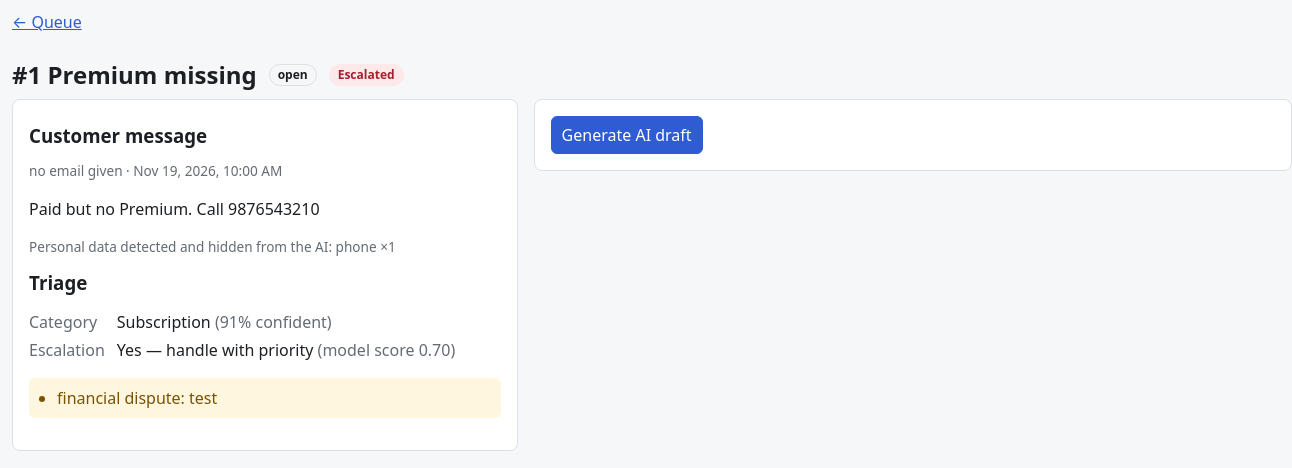
Test case: TicketPage › shows a readable error when generation fails
Click the button "Generate AI draft".
click(627, 135)  # box [551, 116, 703, 154]
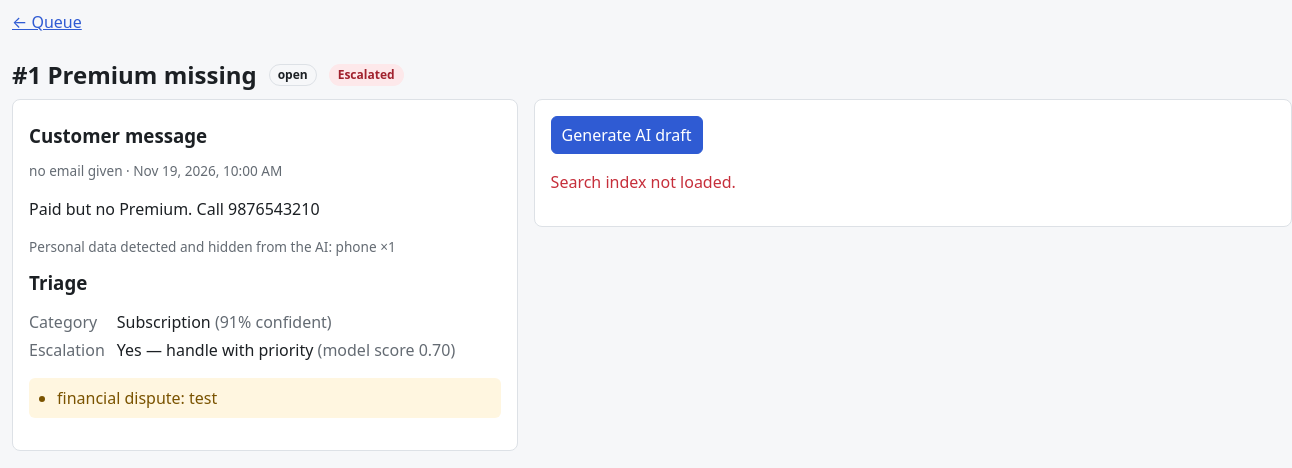
Check: the message reads "Search index not loaded.", box [551, 171, 736, 193]
